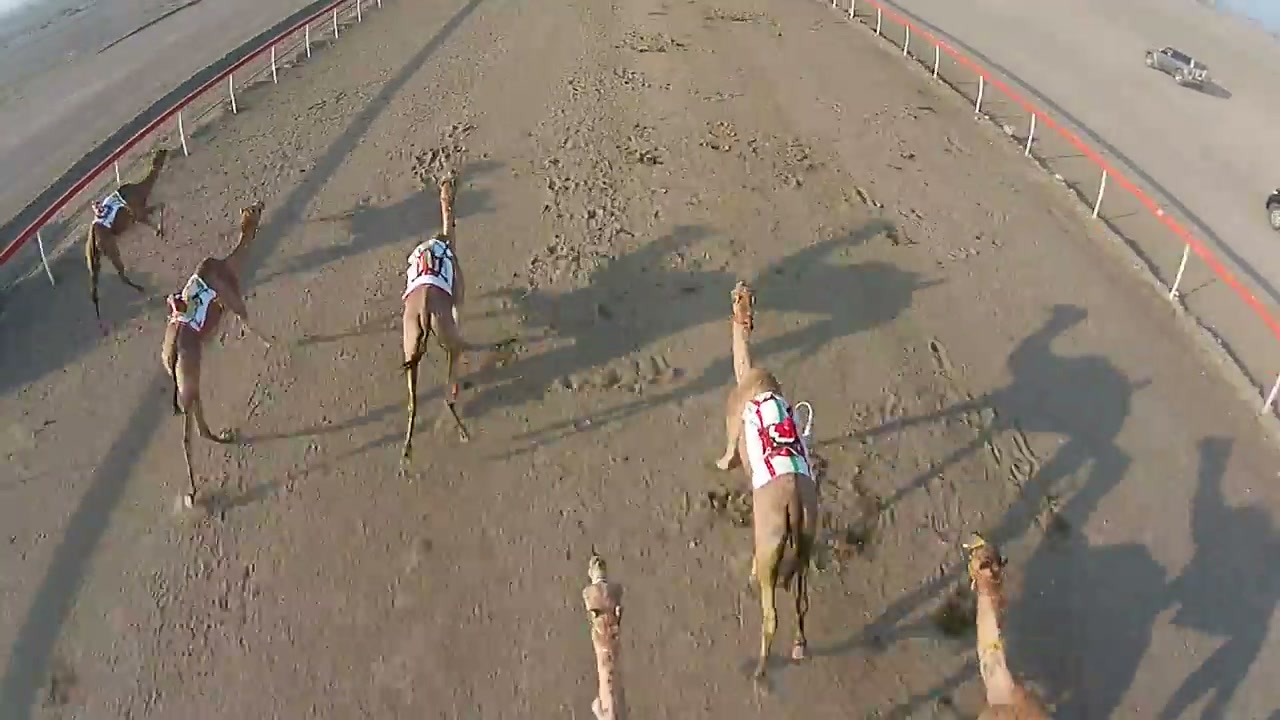animal_footprint: (133, 293, 399, 718)
